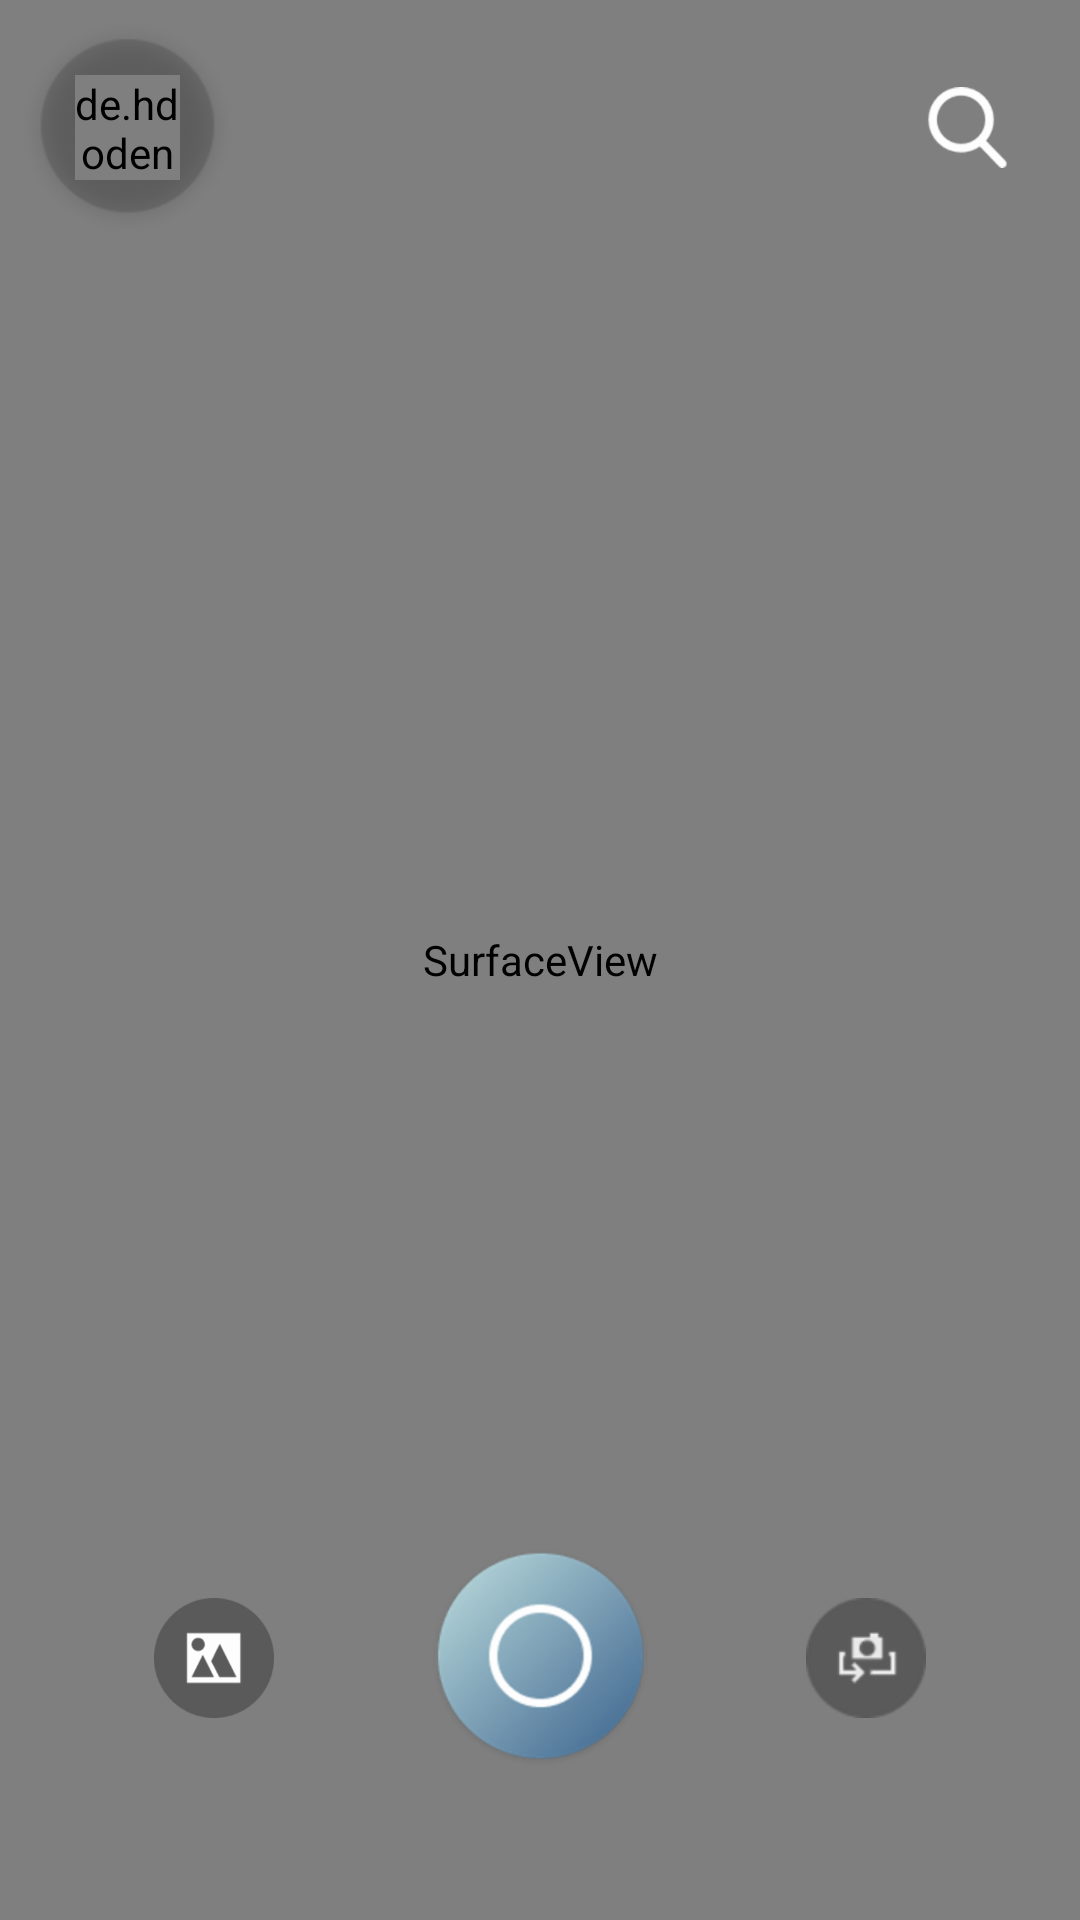

Icons on this 1080px×1920px Android screen, each with its box as (x1, y1, x2, y2):
capture: (438, 1553, 643, 1759)
gallery: (154, 1598, 274, 1718)
rotate cam: (806, 1598, 926, 1718)
search: (928, 87, 1007, 168)
